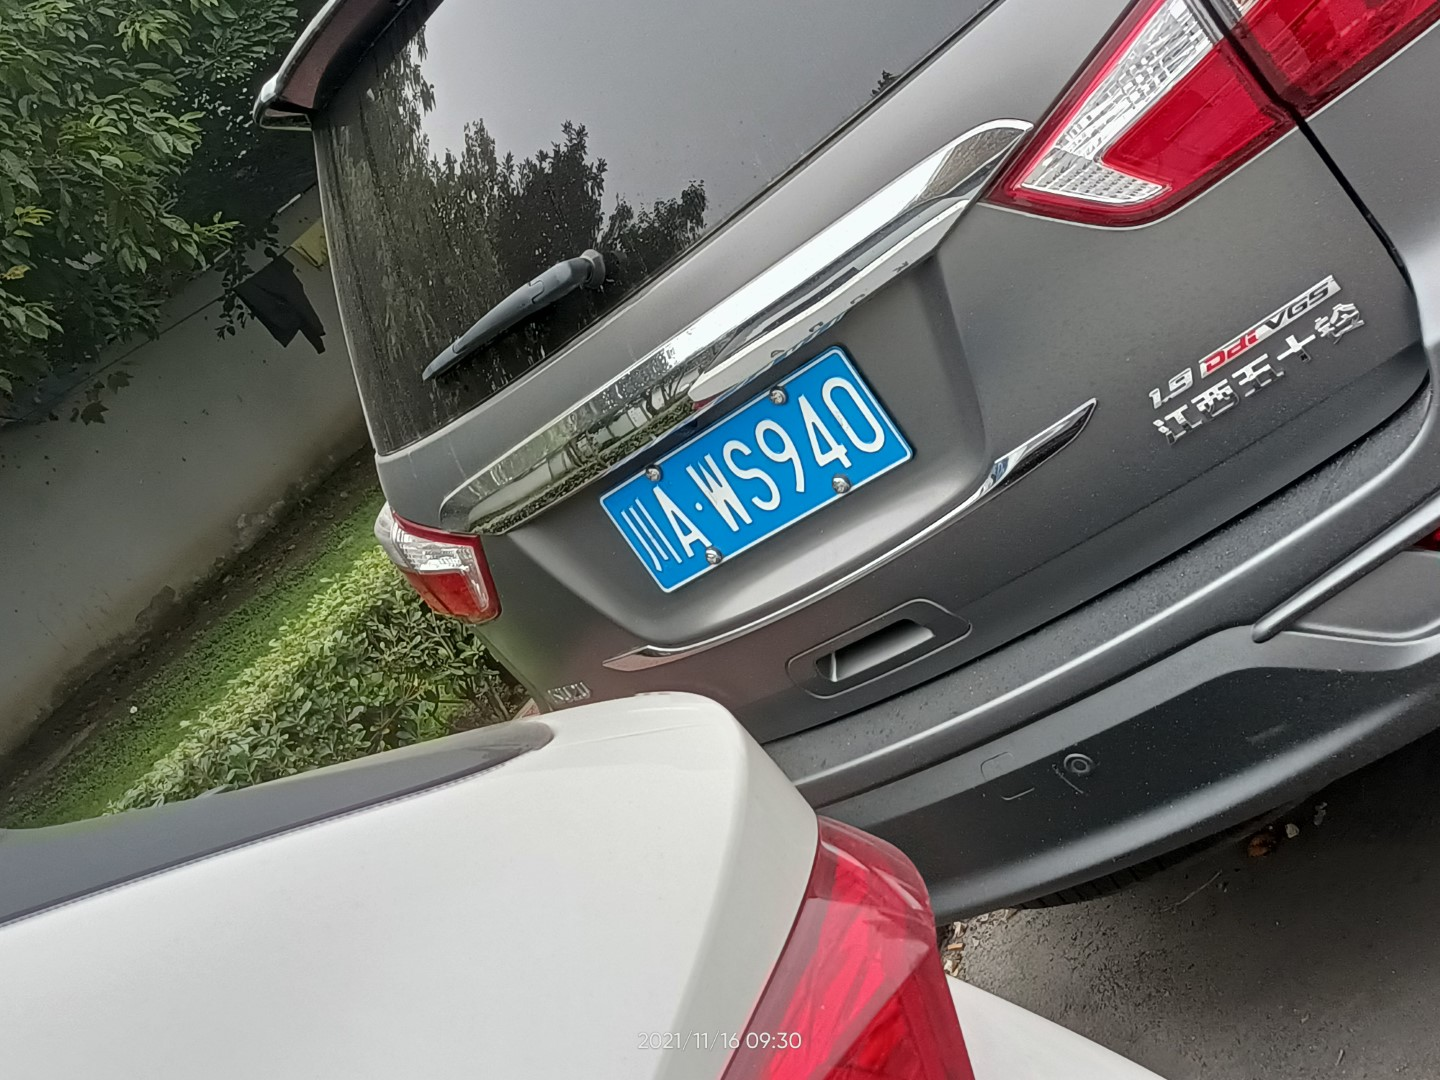plate: (602, 349, 916, 596)
